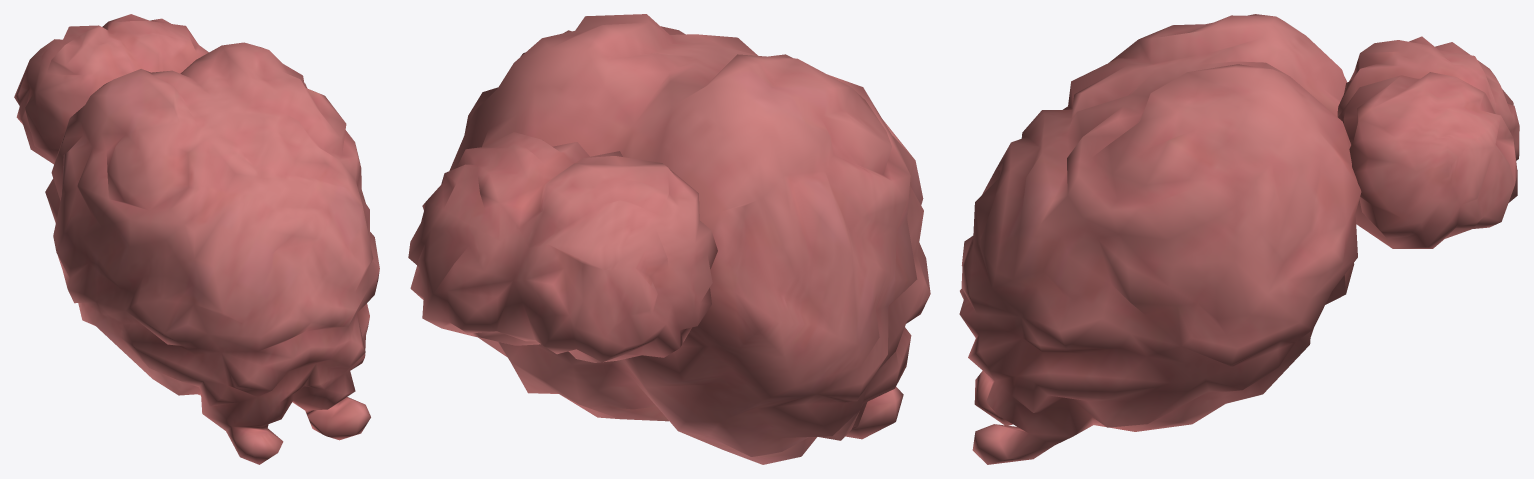
The model's file is Brain.glb.
3 views of the same model, side by side, from view 1: azimuth 30°, elevation 25°; view 2: azimuth 150°, elevation 25°; view 3: azimuth 270°, elevation 25° (orthographic). The views are drawn at different scales.
Visible parts, largest first — view 1: brain.001; view 2: brain.001; view 3: brain.001.
Part boxes in pixels (x1,y1,x2,y2): brain.001: [14, 14, 379, 464]; brain.001: [408, 14, 930, 464]; brain.001: [959, 14, 1519, 464].
Size of the model in its own units: 0.0741 by 0.0824 by 0.1063.
1 material, 1 textured.
